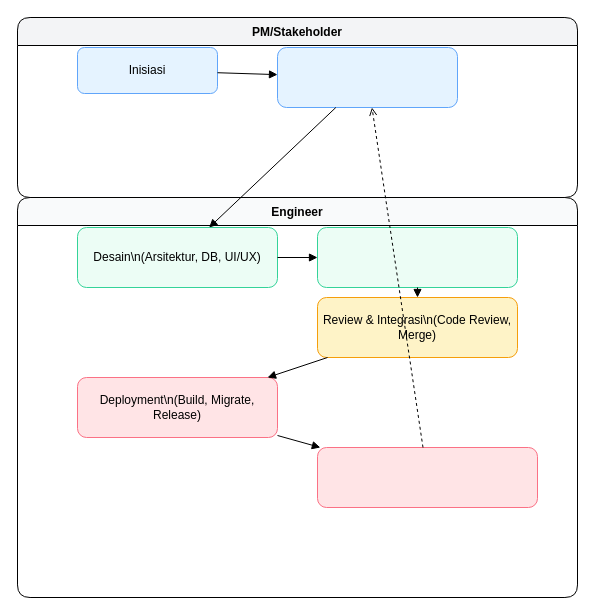
Some shapes in this 595 by 615 pixel diagram are drawn without their labels. Here are the shapes that lost their labels. From the top down, the centre of each, then its label:
point 367,77: Requirements\n(SRS & Prioritas)
point 417,257: Implementasi\n(Code, Commit, PR)
point 427,477: Maintenance\n(Bugfix, Ops)
